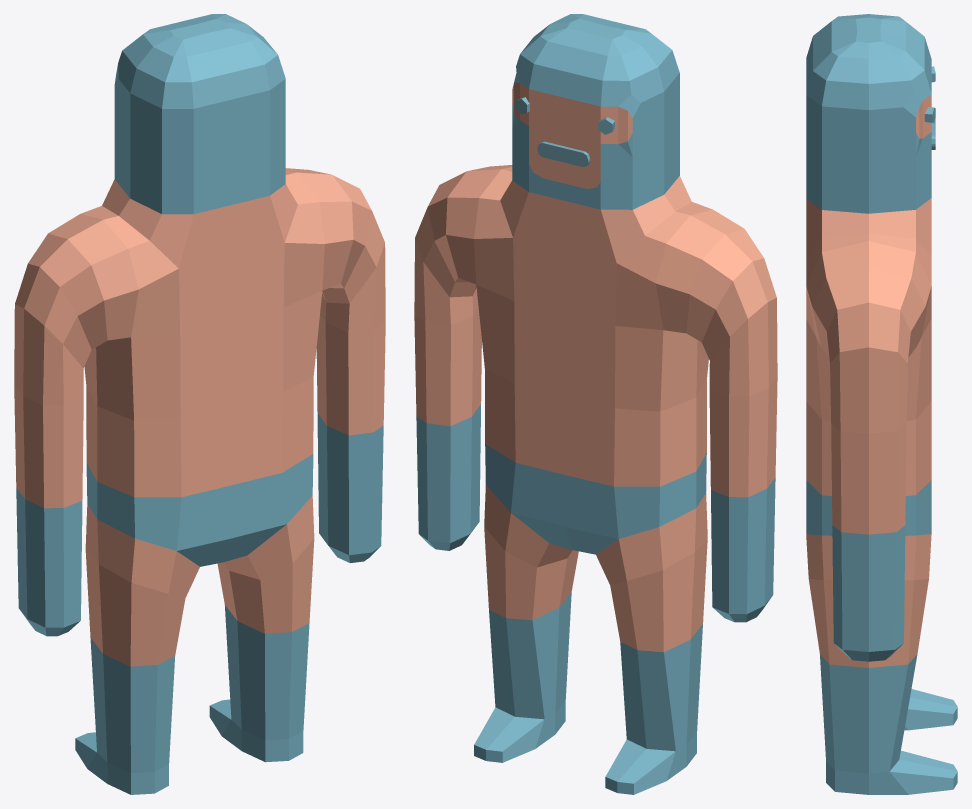
Rendered from Action Figure.fbx.
3 views of the same model, side by side, from view 1: azimuth 30°, elevation 25°; view 2: azimuth 150°, elevation 25°; view 3: azimuth 270°, elevation 25° (orthographic). The views are drawn at different scales.
Visible parts, largest first — view 1: Action Figure; view 2: Action Figure; view 3: Action Figure.
Boxes of the visible parts, x1,y1,x2,y2 form: Action Figure: (14,14,385,794); Action Figure: (414,14,777,794); Action Figure: (806,14,957,794).
Bounding box in the file's own units: 0.0598 × 0.1183 × 0.0226.
